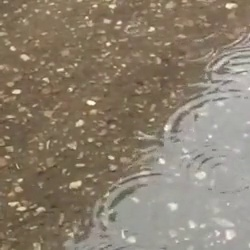drop: (94, 170, 168, 227), (187, 147, 250, 194), (122, 22, 142, 36)
